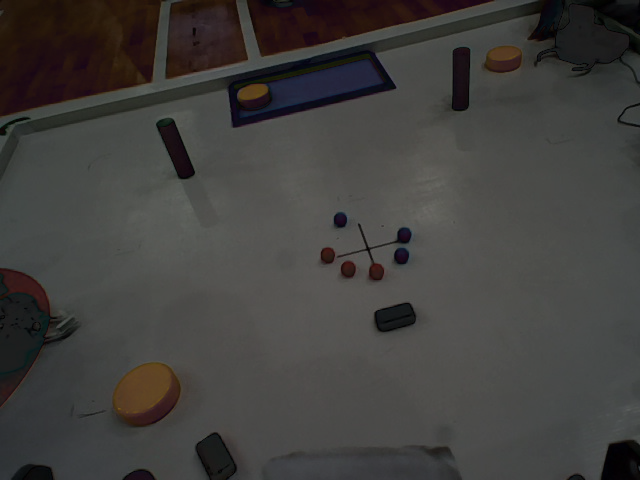black: (186, 430, 242, 476), (355, 301, 420, 333)
blue: (388, 248, 417, 268), (395, 223, 414, 248), (331, 209, 348, 226)
kuang: (220, 46, 406, 127)
red: (337, 255, 359, 282), (317, 246, 337, 266), (367, 262, 386, 283)
yellow: (105, 360, 192, 431), (480, 40, 528, 73), (233, 81, 284, 110)
zhuzi: (153, 109, 203, 176), (446, 41, 473, 121)
